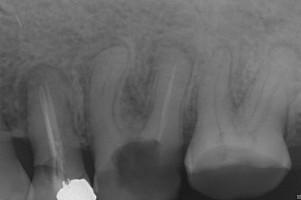Furcation Involvement: (269, 40, 301, 63)
